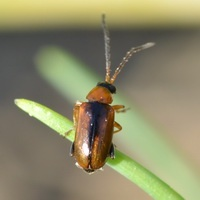insect: (71, 14, 154, 171)
